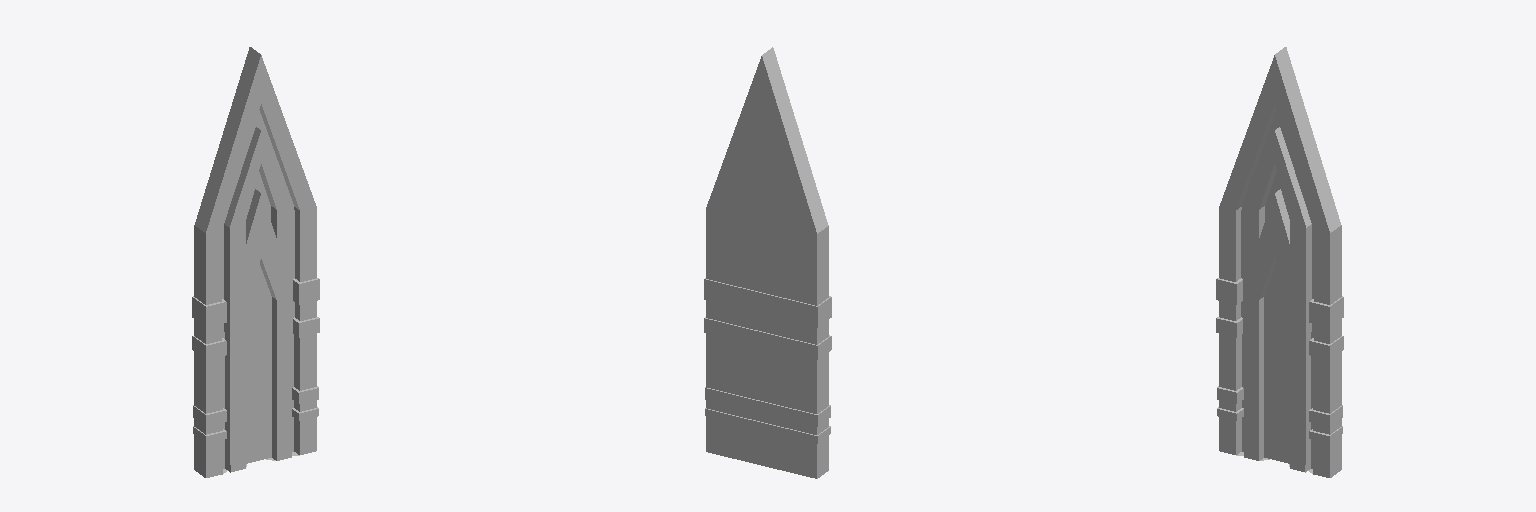
File: Wall_Dec0.obj
3 views of the same model, side by side, from view 1: azimuth 30°, elevation 25°; view 2: azimuth 150°, elevation 25°; view 3: azimuth 330°, elevation 25° (orthographic).
Visible parts, largest first — view 1: default; view 2: default; view 3: default.
Boxes of the visible parts, x1,y1,x2,y2 form: default: [192, 47, 319, 477]; default: [704, 47, 831, 478]; default: [1216, 47, 1343, 477].
Size of the model in its own units: 4 by 13.85 by 0.8459.